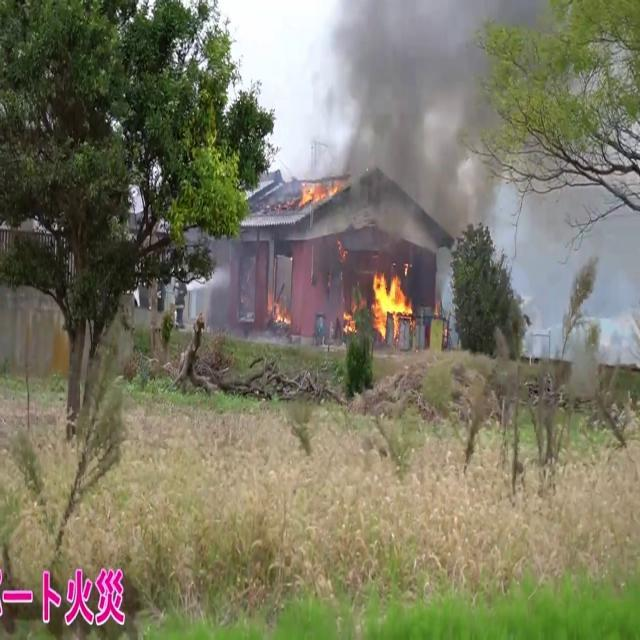Fire: (364, 260, 416, 337), (299, 172, 337, 208), (270, 299, 294, 336)
Smoke: (299, 0, 507, 260)
